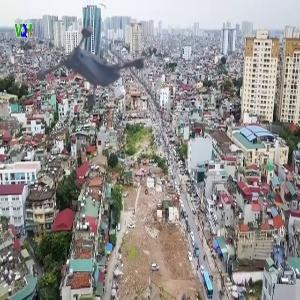drone: (47, 1, 167, 121)
